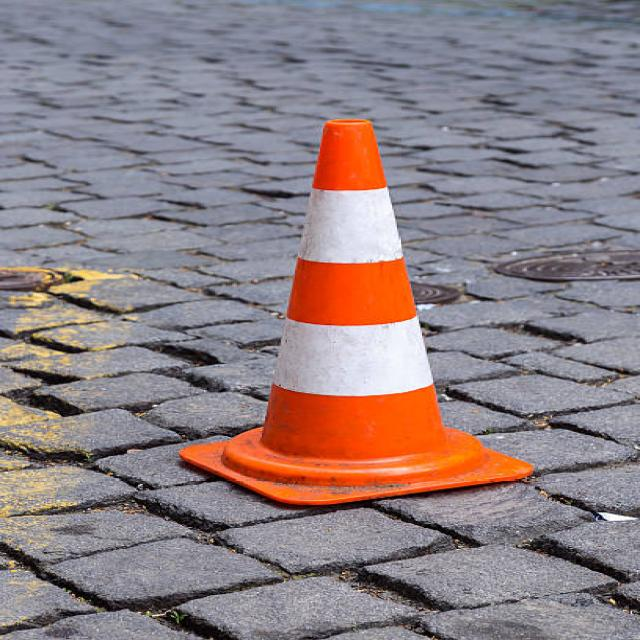Traffic Cone: (118, 82, 583, 526)
